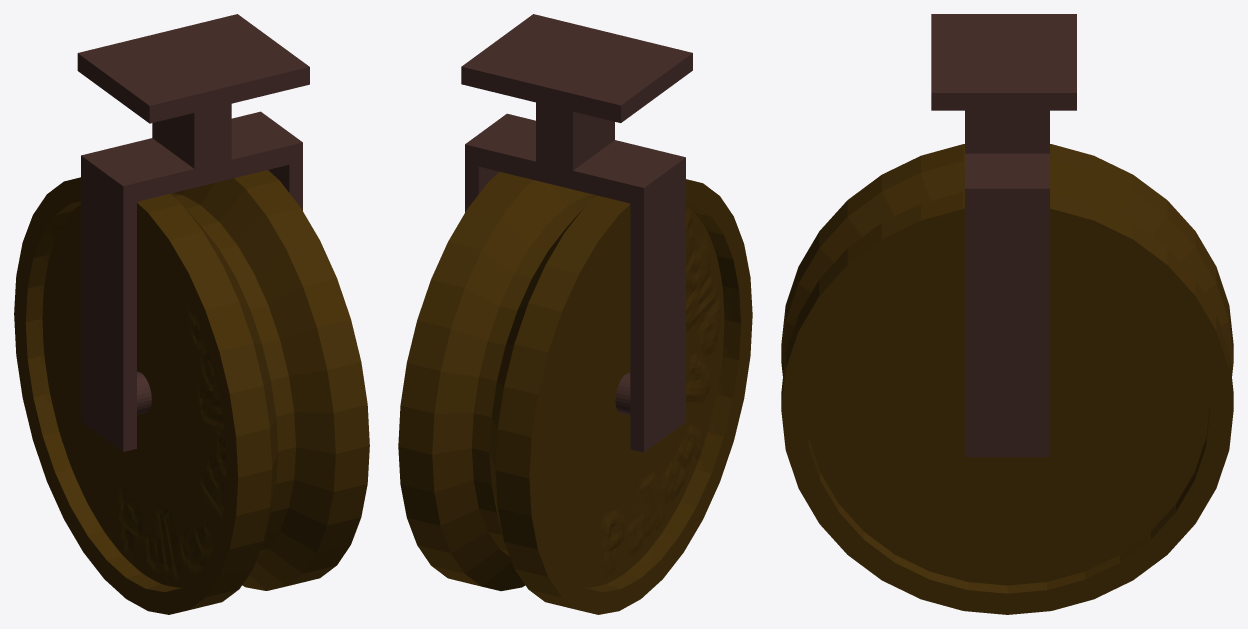
File: pulley.glb
The picture shows the model from 3 angles, left to right: view 1: azimuth 30°, elevation 25°; view 2: azimuth 150°, elevation 25°; view 3: azimuth 270°, elevation 25°; orthographic projection.
Parts seen in each view (by area): view 1: Cylinder, Cube.001, Cube; view 2: Cylinder, Cube.001, Cube; view 3: Cylinder, Cube.001, Cube.
Boxes of the visible parts, x1,y1,x2,y2 form: Cylinder: (14,170,369,614); Cube.001: (77,14,309,451); Cube: (77,33,229,451); Cylinder: (398,172,752,614); Cube.001: (461,14,692,451); Cube: (536,34,692,452); Cylinder: (781,144,1233,614); Cube.001: (931,50,1076,456); Cube: (931,14,1076,53).
Bounding box in the file's own units: 0.5282 × 1.47 × 1.14.
